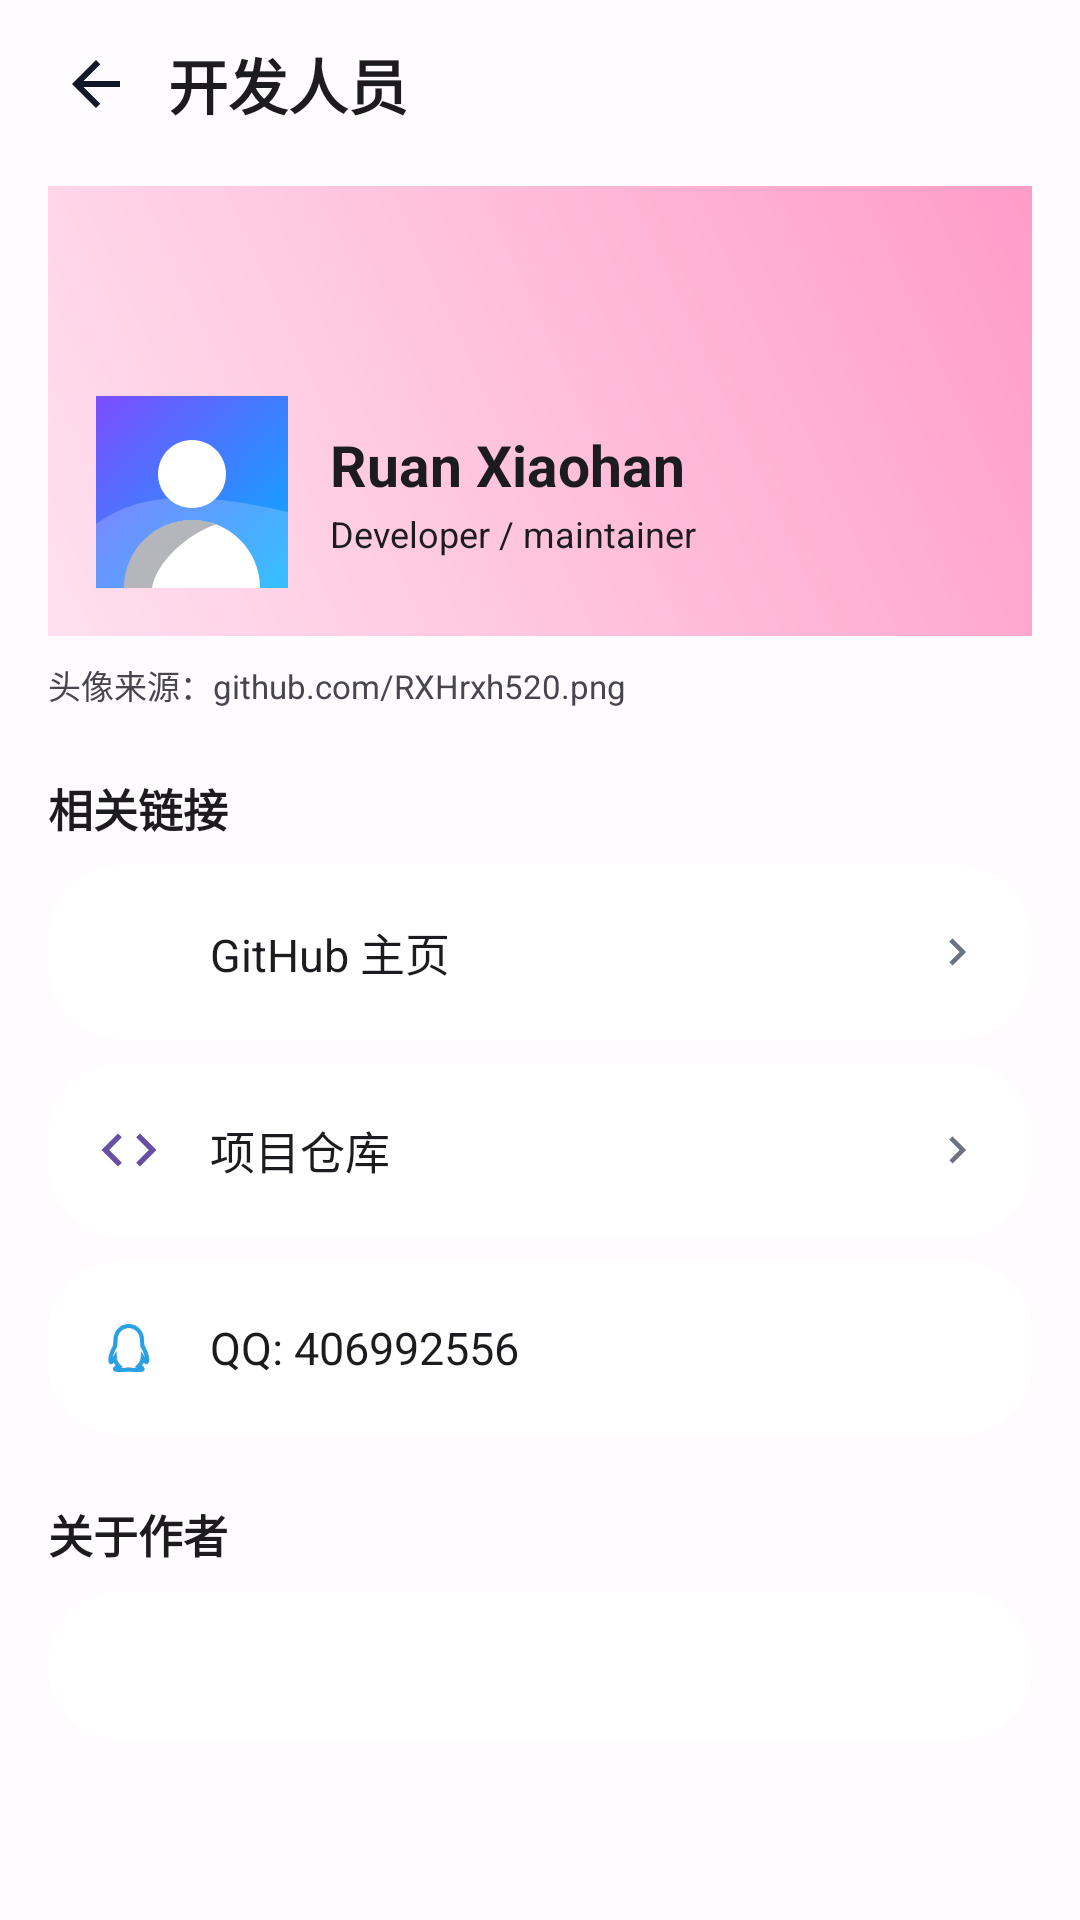

Point at icon controls on the screen. Image size 1080px x 1920px, points as (x,y).
arrow back: (96,84)
chevron right: (957,952), (957,1150)
